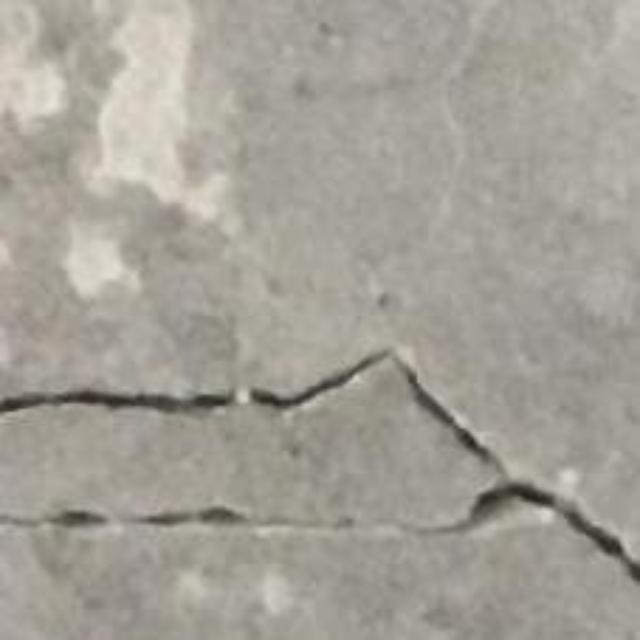crack: (0, 359, 639, 583)
peeling plaster: (79, 0, 228, 231)
